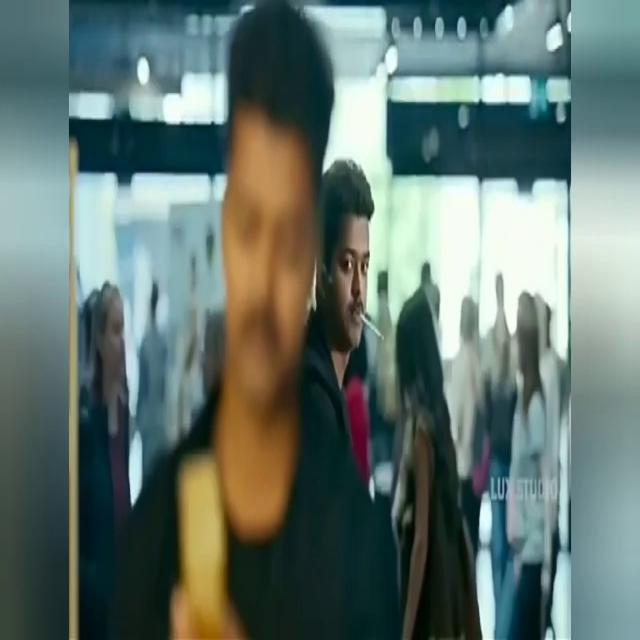smoking: (336, 305, 390, 323)
